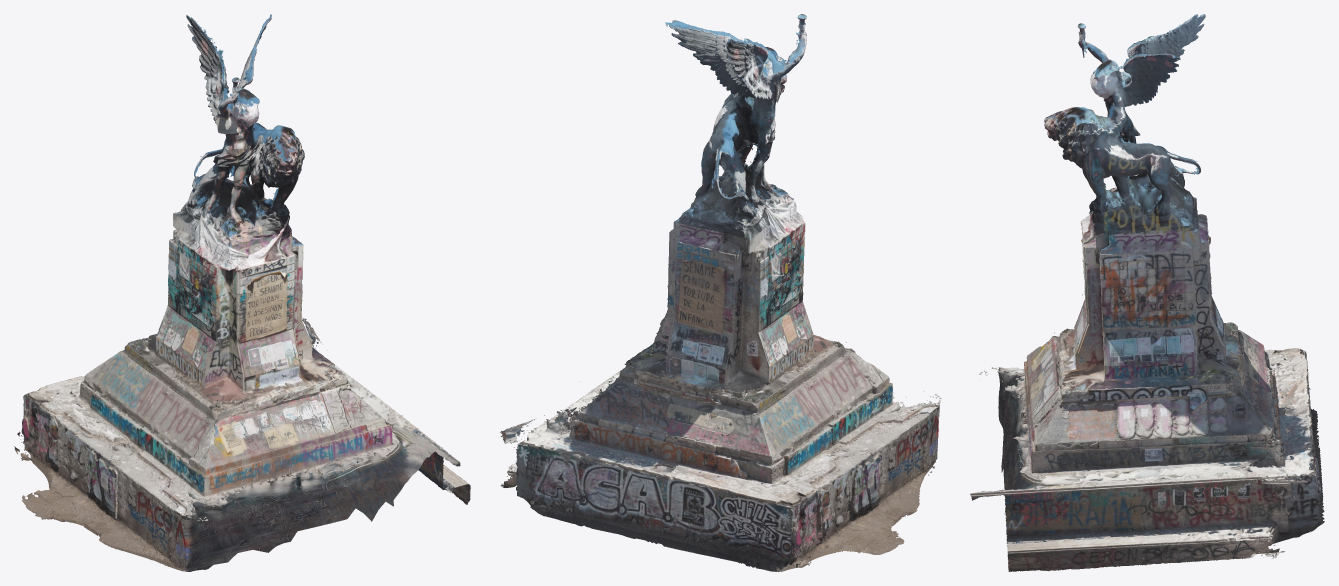
Rendered from angel.glb.
3 renders of one model, left to right at view 1: azimuth 30°, elevation 25°; view 2: azimuth 150°, elevation 25°; view 3: azimuth 270°, elevation 25°, orthographic. The views are drawn at different scales.
Parts seen in each view (by area): view 1: Object_2; view 2: Object_2; view 3: Object_2.
Part boxes in pixels (<box>): Object_2: <box>14,14,470,571</box>; Object_2: <box>500,14,941,571</box>; Object_2: <box>970,14,1324,571</box>.
Bounding box in the file's own units: 9.98 × 12.78 × 8.75.
5 materials, 5 textured.
